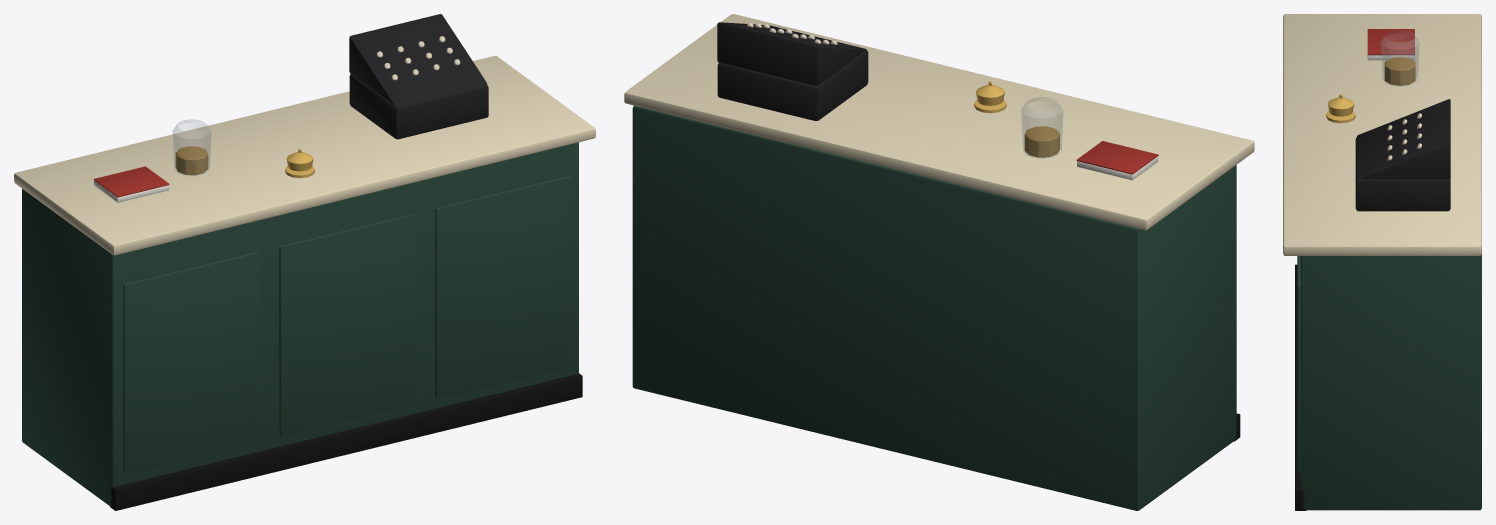
File: mae_counter.glb
3 renders of one model, left to right at view 1: azimuth 30°, elevation 25°; view 2: azimuth 150°, elevation 25°; view 3: azimuth 270°, elevation 25°, orthographic. The views are drawn at different scales.
Visible parts, largest first — view 1: mae_counter; view 2: mae_counter; view 3: mae_counter.
Part boxes in pixels (x1,y1,x2,y2): mae_counter: (14,14,595,510); mae_counter: (624,14,1254,510); mae_counter: (1283,14,1481,510).
Size of the model in its own units: 1.86 by 1.26 by 0.67.
